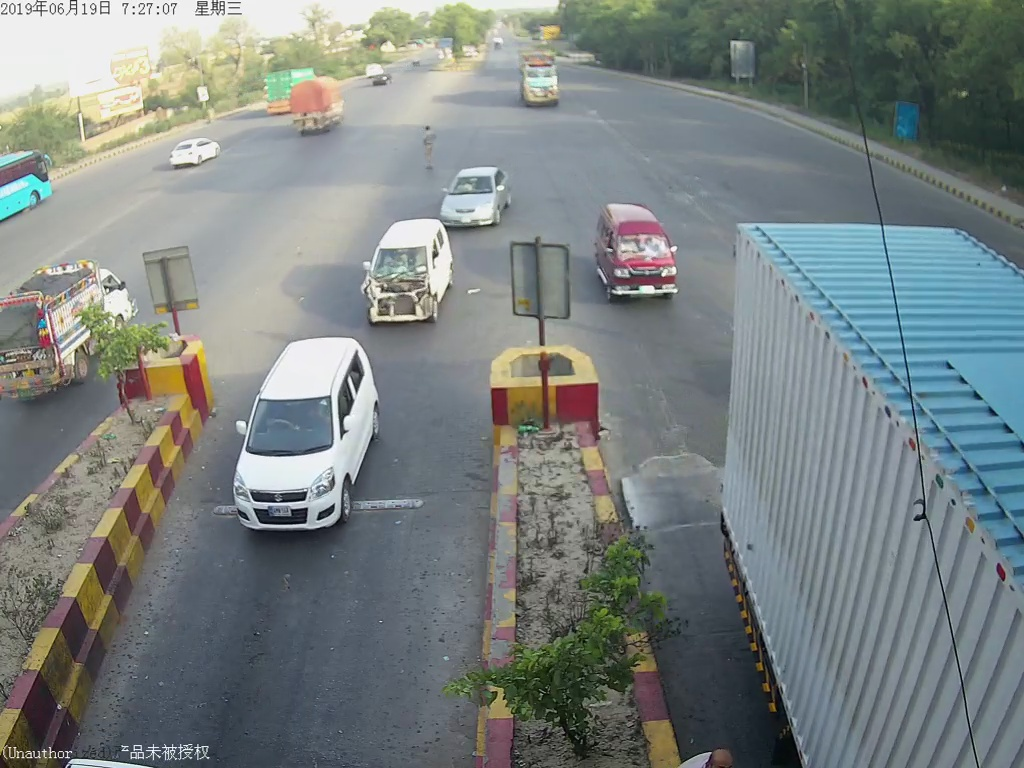Cat-1: (236, 333, 374, 529), (357, 217, 460, 331), (596, 202, 690, 316), (438, 164, 514, 229)
Cat-4: (510, 50, 572, 110)
